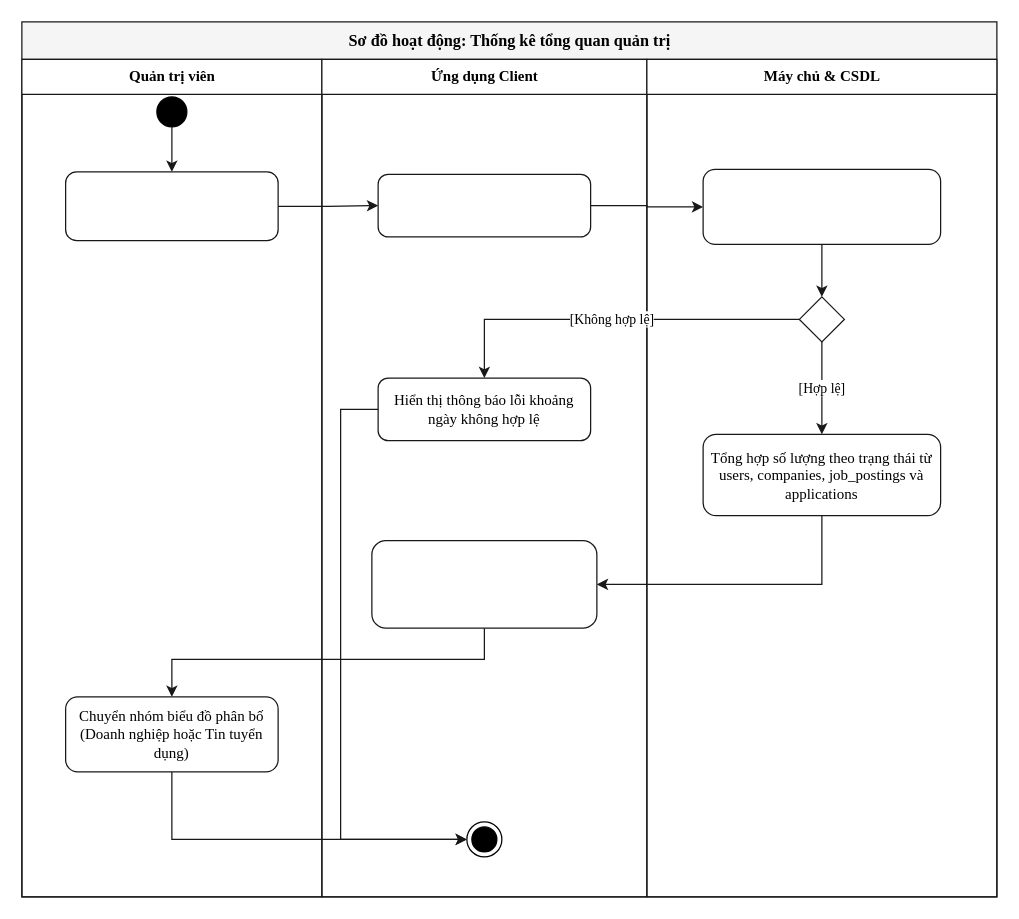
This 1019x919 diagram has some shape labels left out. Here are the shapes that lost their labels. From the top down, the centre of each, then its label:
point (171, 206): Mở trang tổng quan quản trị (mặc định 30 ngày gần nhất)
point (484, 205): Gửi yêu cầu lấy số liệu tổng hợp theo khoảng ngày
point (821, 206): Kiểm tra quyền Admin và tính hợp lệ của khoảng ngày (from <= to)
point (484, 583): Hiển thị thẻ chỉ số, biểu đồ tròn phân bố và biểu đồ xu hướng 6 tháng ước lượng
